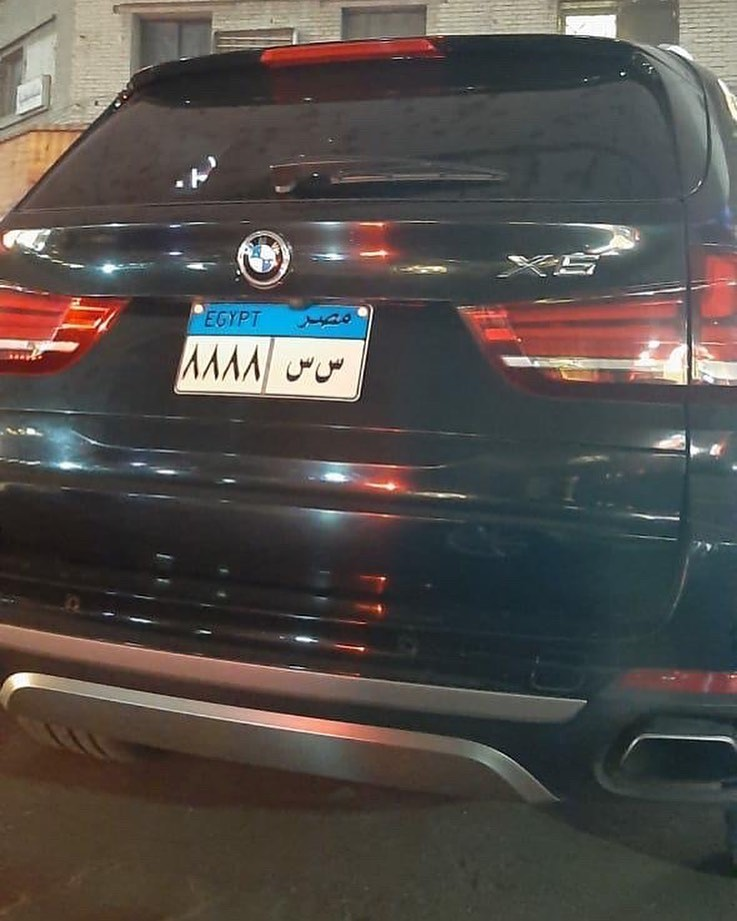carpl: (184, 287, 372, 402)
